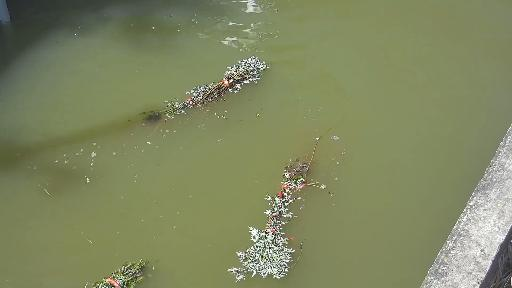twig: (223, 119, 343, 286), (126, 46, 289, 127), (98, 255, 159, 288)
